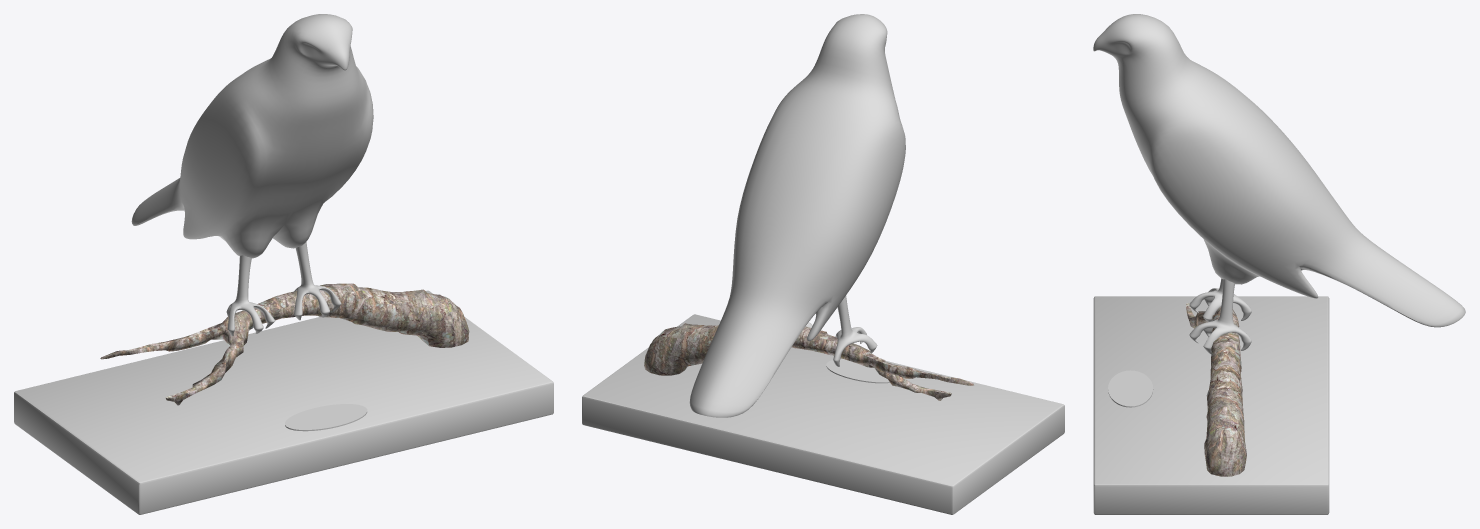
The model's file is 10025_Hawk_v1_iterations-2.fbx.
3 views of the same model, side by side, from view 1: azimuth 30°, elevation 25°; view 2: azimuth 150°, elevation 25°; view 3: azimuth 270°, elevation 25° (orthographic). The views are drawn at different scales.
Visible parts, largest first — view 1: Cube, hawk, Volume_Mesher, Disc; view 2: hawk, Cube, Volume_Mesher, Disc; view 3: Cube, hawk, Volume_Mesher, Disc.
Part boxes in pixels (left/top/right/bottom): Cube: left=14, top=290, right=553, bottom=514; hawk: left=131, top=14, right=373, bottom=336; Volume_Mesher: left=100, top=283, right=469, bottom=405; Disc: left=285, top=404, right=367, bottom=431; hawk: left=689, top=14, right=905, bottom=417; Cube: left=582, top=314, right=1064, bottom=514; Volume_Mesher: left=644, top=323, right=973, bottom=400; Disc: left=826, top=359, right=889, bottom=383; Cube: left=1093, top=296, right=1329, bottom=514; hawk: left=1093, top=14, right=1465, bottom=354; Volume_Mesher: left=1186, top=303, right=1246, bottom=476; Disc: left=1108, top=370, right=1153, bottom=407.
Size of the model in its own units: 39.95 by 39.62 by 33.18.
1 material, 1 textured.
